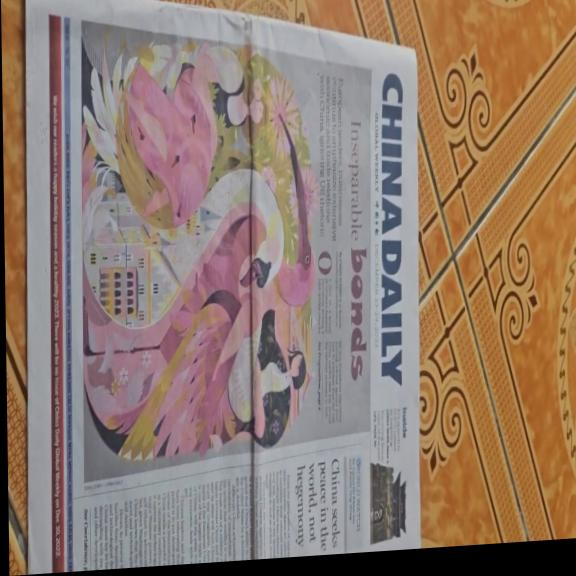Kertas: (28, 50, 421, 569)
